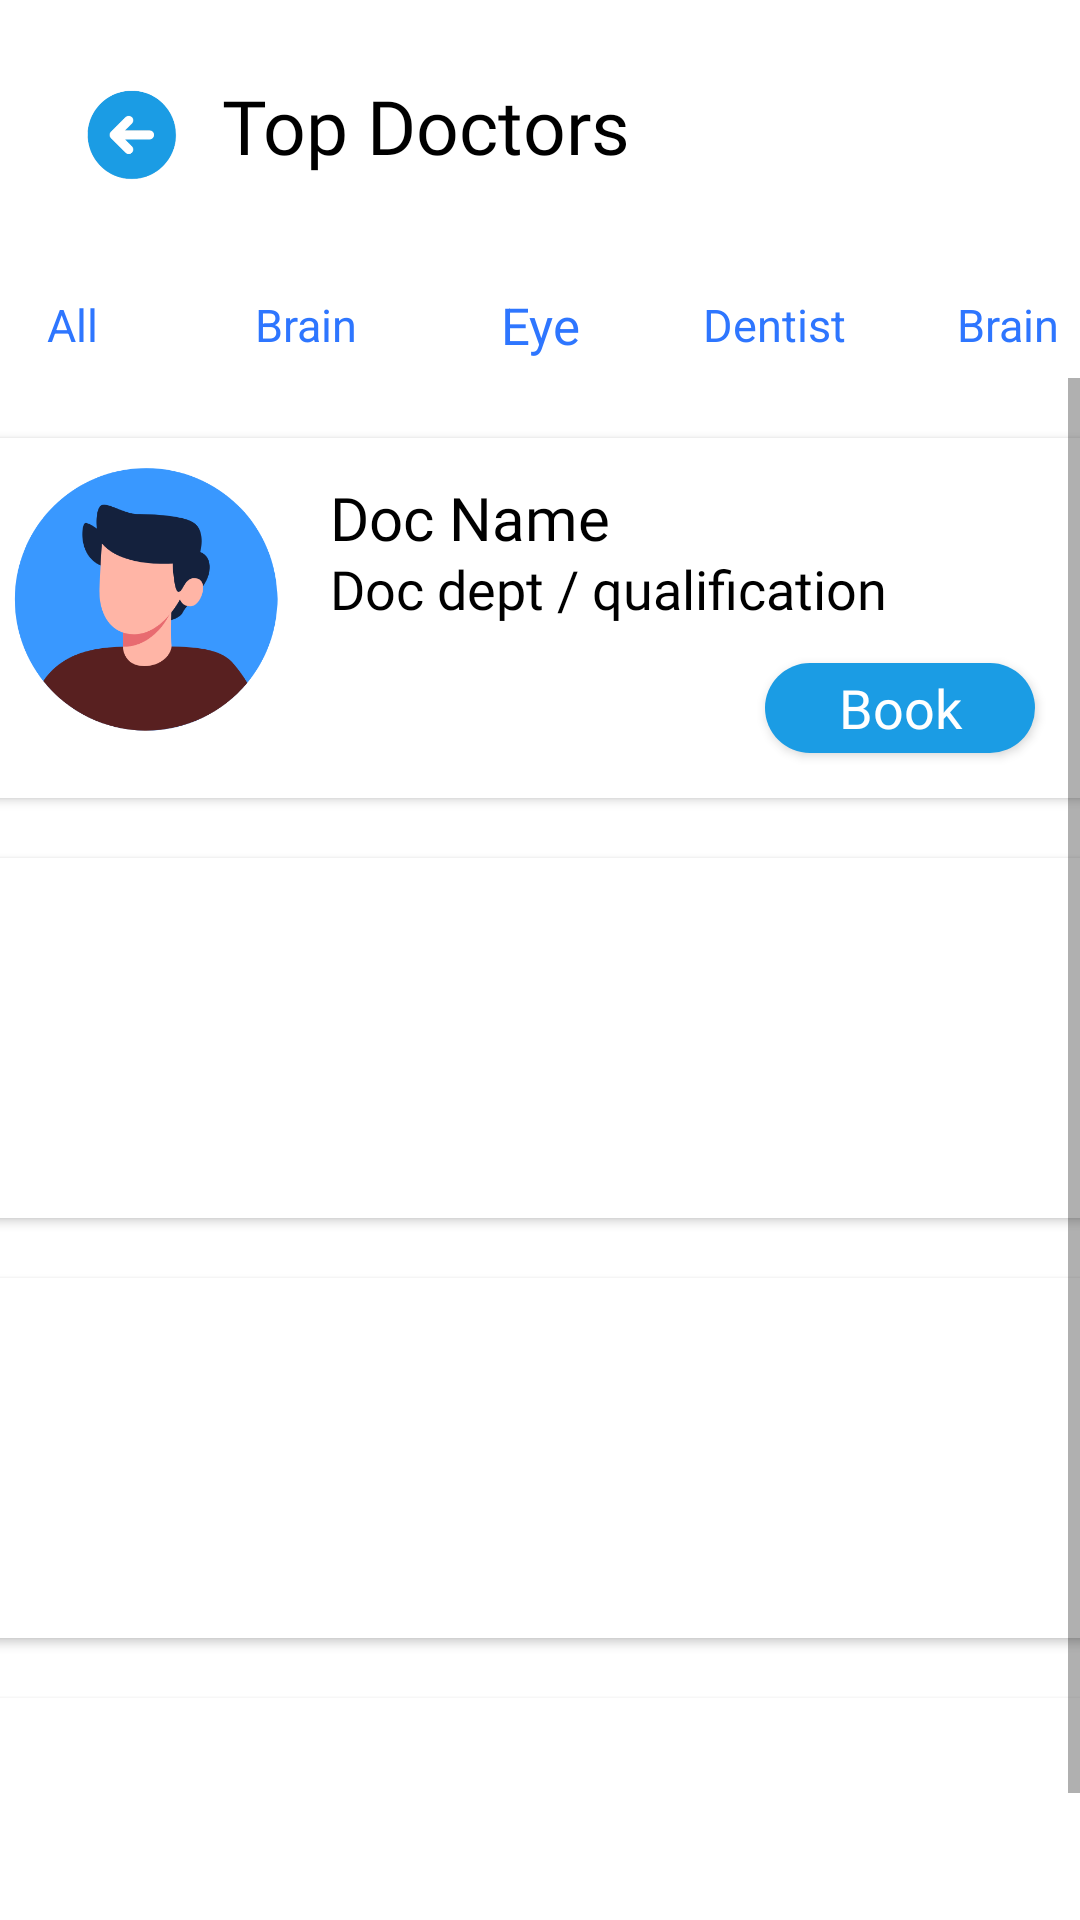

Locate icon controls on the screen. Image size 1080*1920, boxes as {"x1": x1, "y1": y1, "x2": x2, "y2": y2}.
back arrow: {"x1": 87, "y1": 91, "x2": 176, "y2": 179}
person: {"x1": 15, "y1": 468, "x2": 278, "y2": 731}
